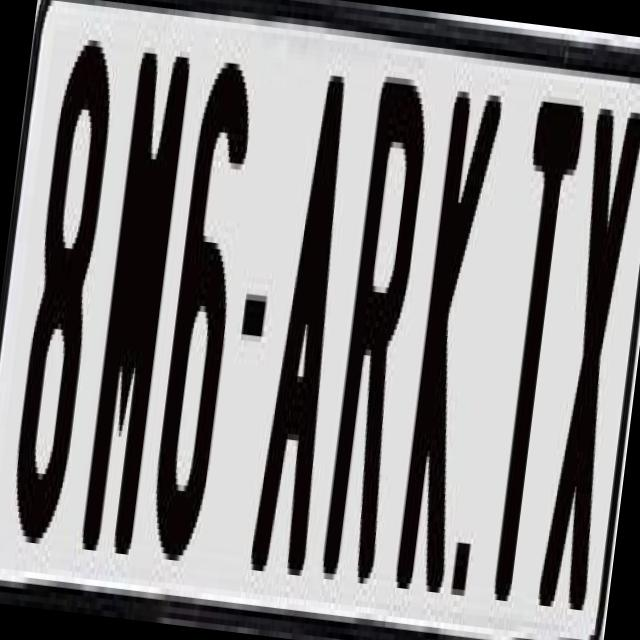6: (144, 48, 259, 569)
8: (3, 37, 122, 569)
A: (249, 61, 371, 570)
K: (387, 84, 507, 622)
M: (72, 51, 189, 584)
R: (320, 64, 440, 574)
T: (476, 101, 586, 604)
X: (533, 90, 640, 621)
